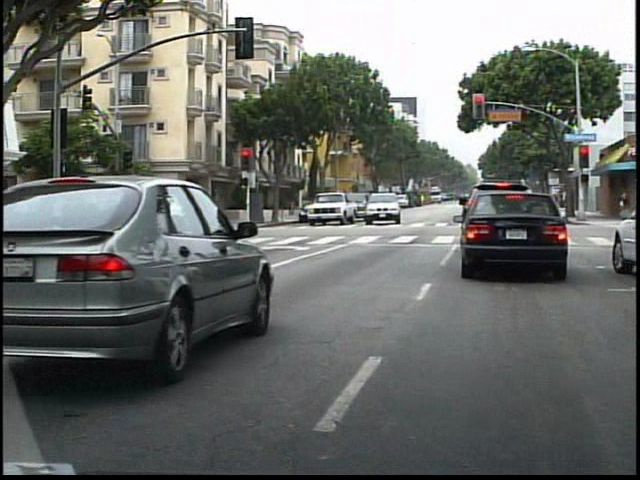person: (131, 191, 148, 235), (150, 193, 167, 233)
